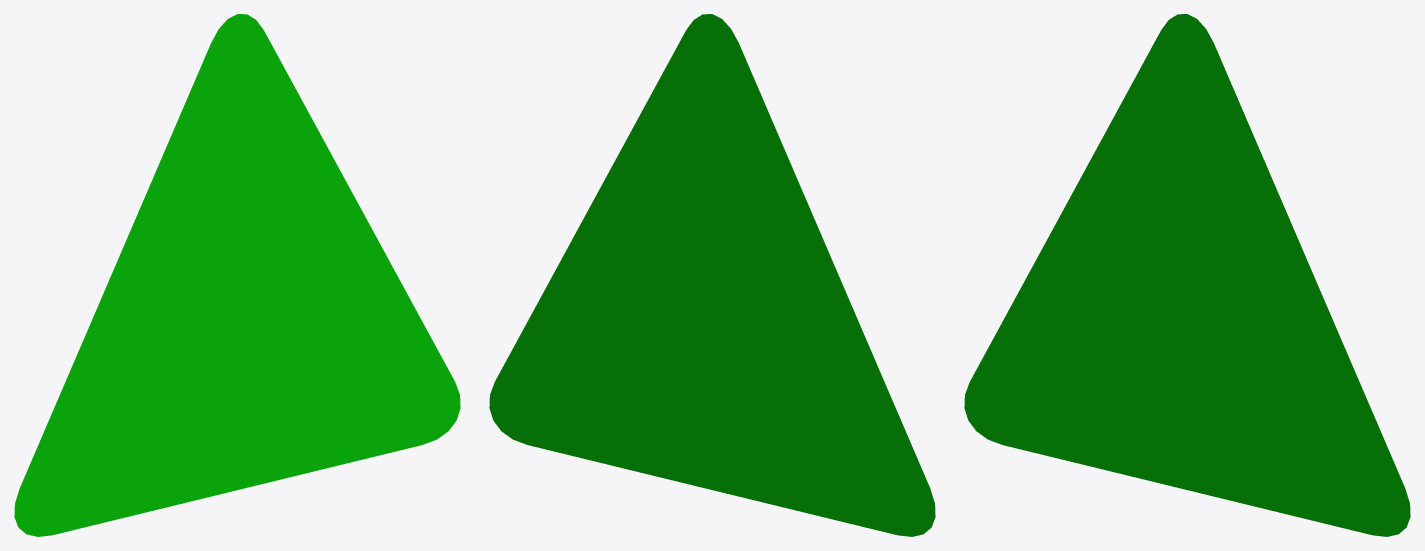
Rendered from player-explosion.glb.
The picture shows the model from 3 angles, left to right: view 1: azimuth 30°, elevation 25°; view 2: azimuth 150°, elevation 25°; view 3: azimuth 330°, elevation 25°; orthographic projection.
Visible parts, largest first — view 1: PlayerExplosion; view 2: PlayerExplosion; view 3: PlayerExplosion.
Boxes of the visible parts, x1,y1,x2,y2 form: PlayerExplosion: (14,14,460,536); PlayerExplosion: (489,14,935,536); PlayerExplosion: (964,14,1410,536).
Bounding box in the file's own units: 37.84 × 38.59 × 0.
